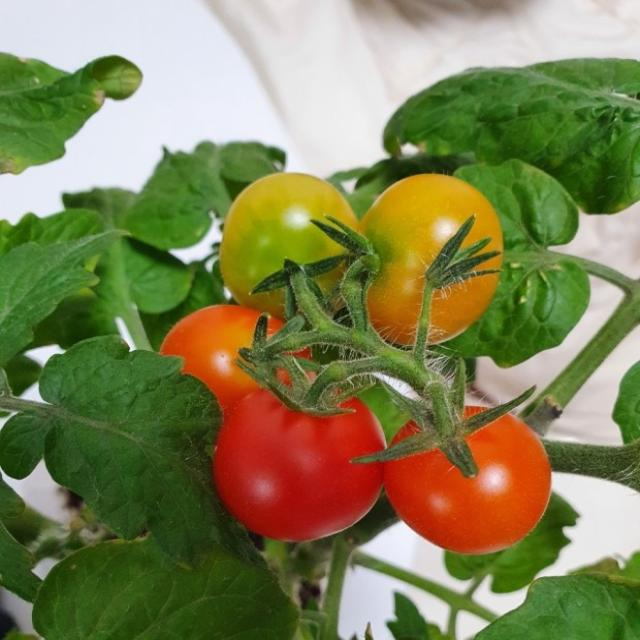level 4: (336, 162, 514, 355), (192, 158, 366, 334)
level 5: (142, 277, 328, 460)
level 6: (179, 371, 411, 595), (370, 390, 564, 566)
